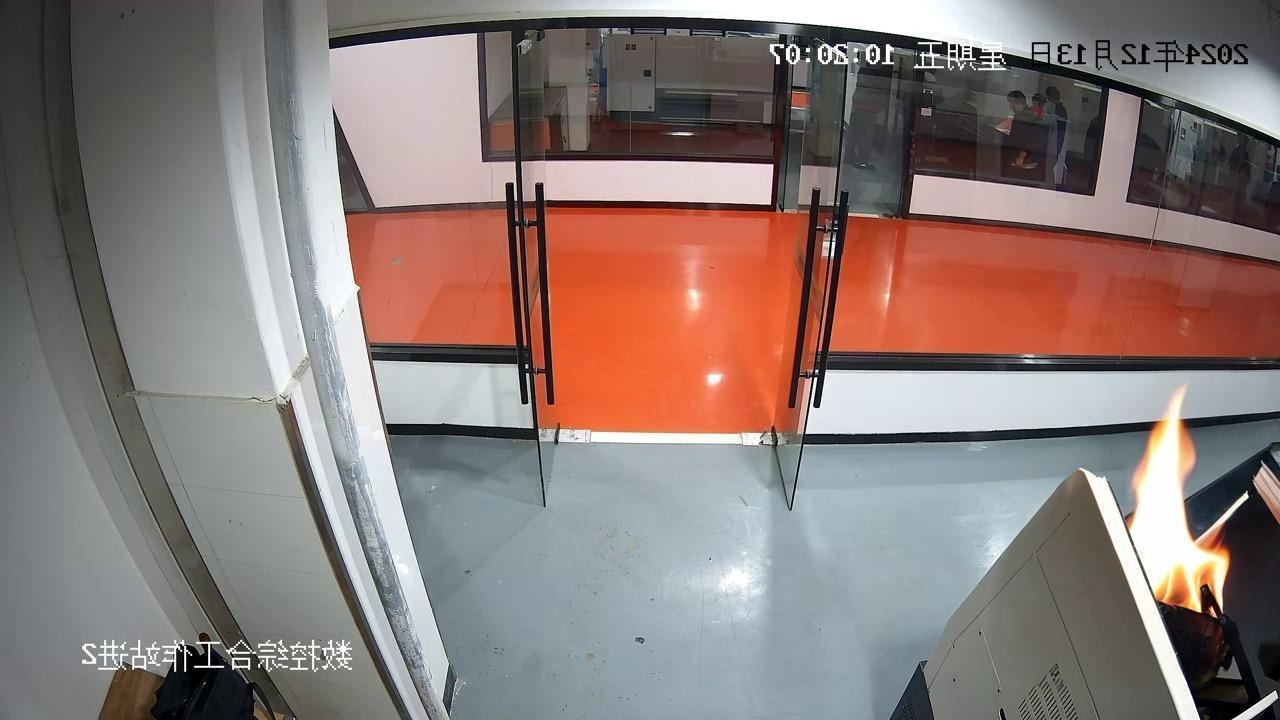fire: (1097, 363, 1260, 657)
